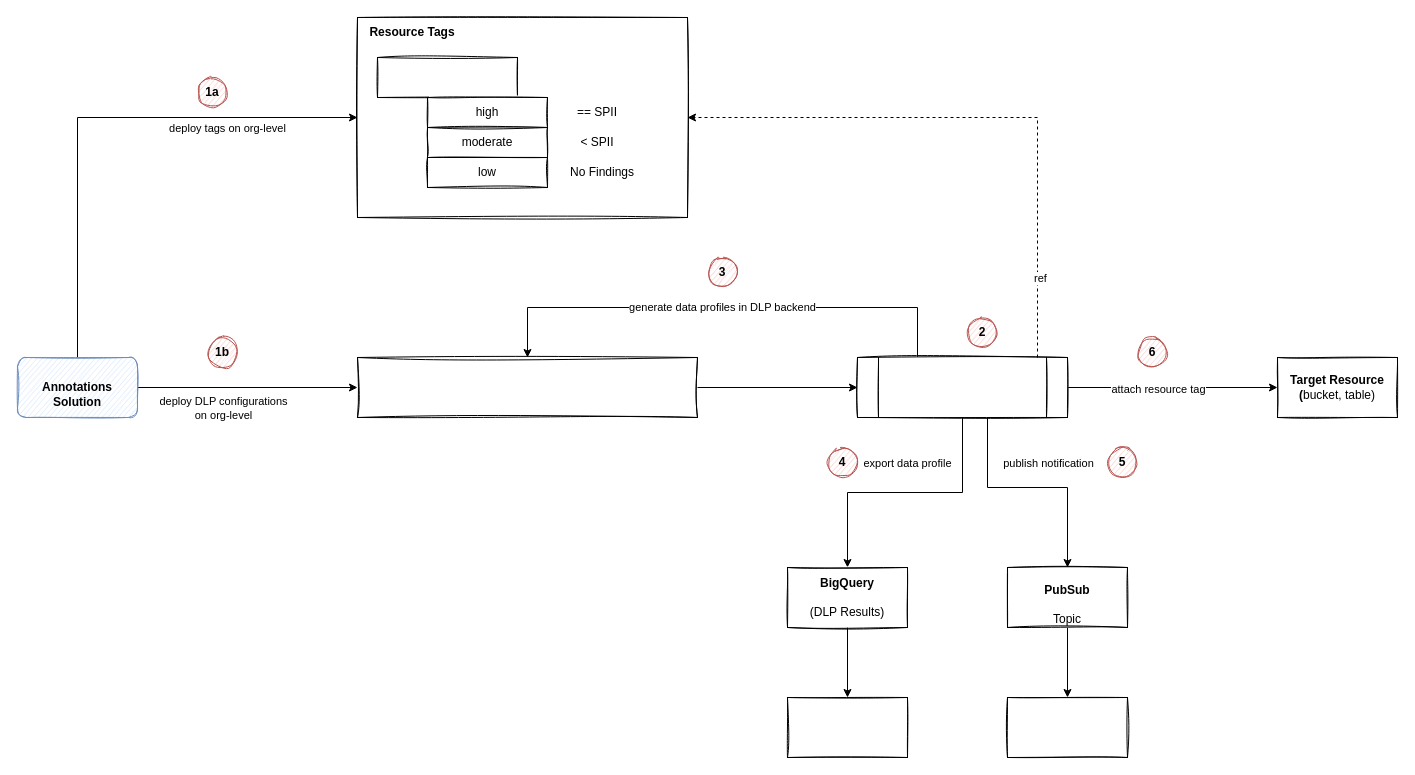
The diagram is 1415 pixels wide and 775 high, and some of its shapes have lost their labels. The centre of each missing label's shape, as x and y in pixels:
"batch use cases" belongs at [847,727].
"Discover and Inspects Resources" belongs at [962,387].
"DLP Discovery Service" belongs at [527,387].
"dlp_sensitivity_level" belongs at [447,77].
"Event-driven use cases" belongs at [1067,727].
